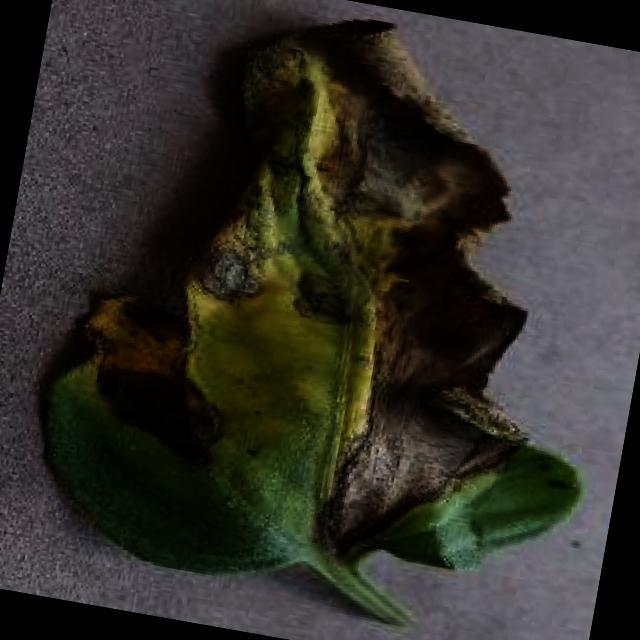Tomato Early blight leaf: (21, 0, 640, 637)
